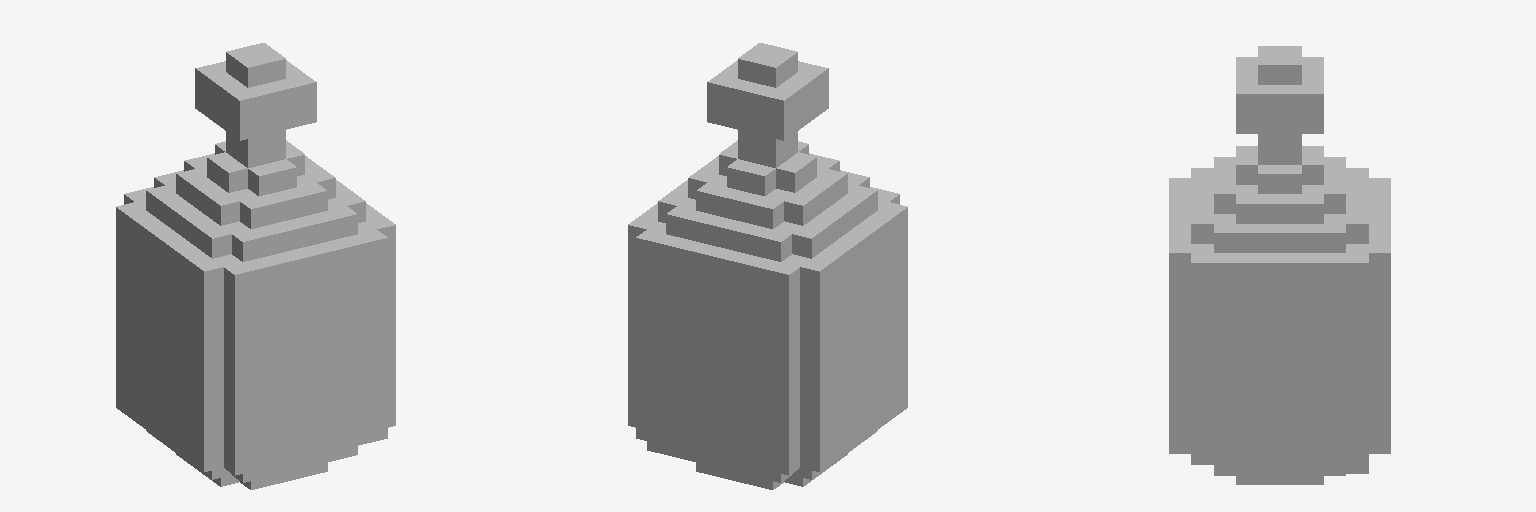
The model's file is Singlton.obj.
3 renders of one model, left to right at view 1: azimuth 30°, elevation 25°; view 2: azimuth 150°, elevation 25°; view 3: azimuth 270°, elevation 25°, orthographic.
Visible parts, largest first — view 1: object 1; view 2: object 1; view 3: object 1.
Boxes of the visible parts, box(x1,y1,x2,y2) form: object 1: box(116, 43, 395, 489); object 1: box(628, 43, 907, 489); object 1: box(1169, 46, 1390, 484).
Size of the model in its own units: 1 by 2 by 1.